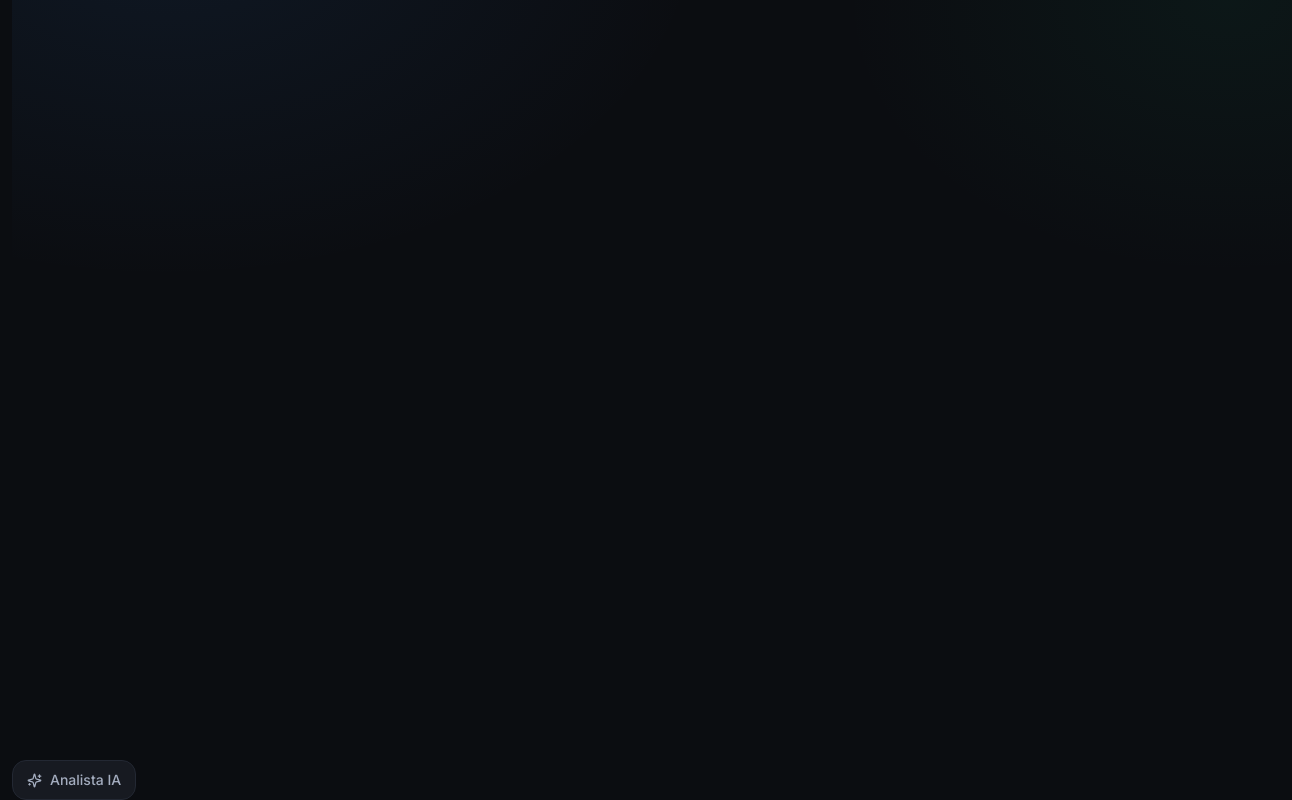
Test: AssetChat scrolling › can stop an answer mid-stream and keeps what arrived
(page scrolled)
Click the button "Analista IA": coordinates (74, 780) 12,760 -> 136,799
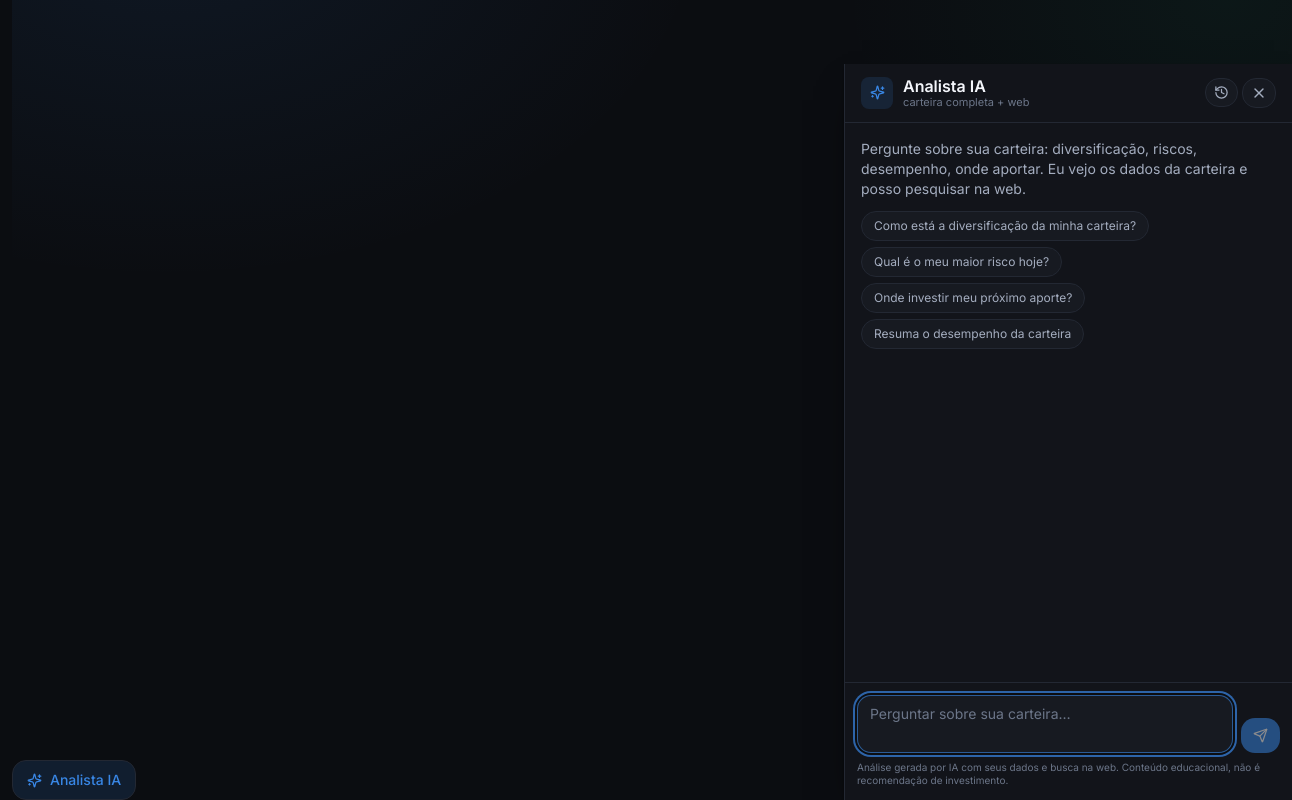
In the text box with placeholder "Perguntar sobre sua carteira…": coordinates (1045, 724) 857,694 -> 1233,752, type "Pergunta"
Then press Enter
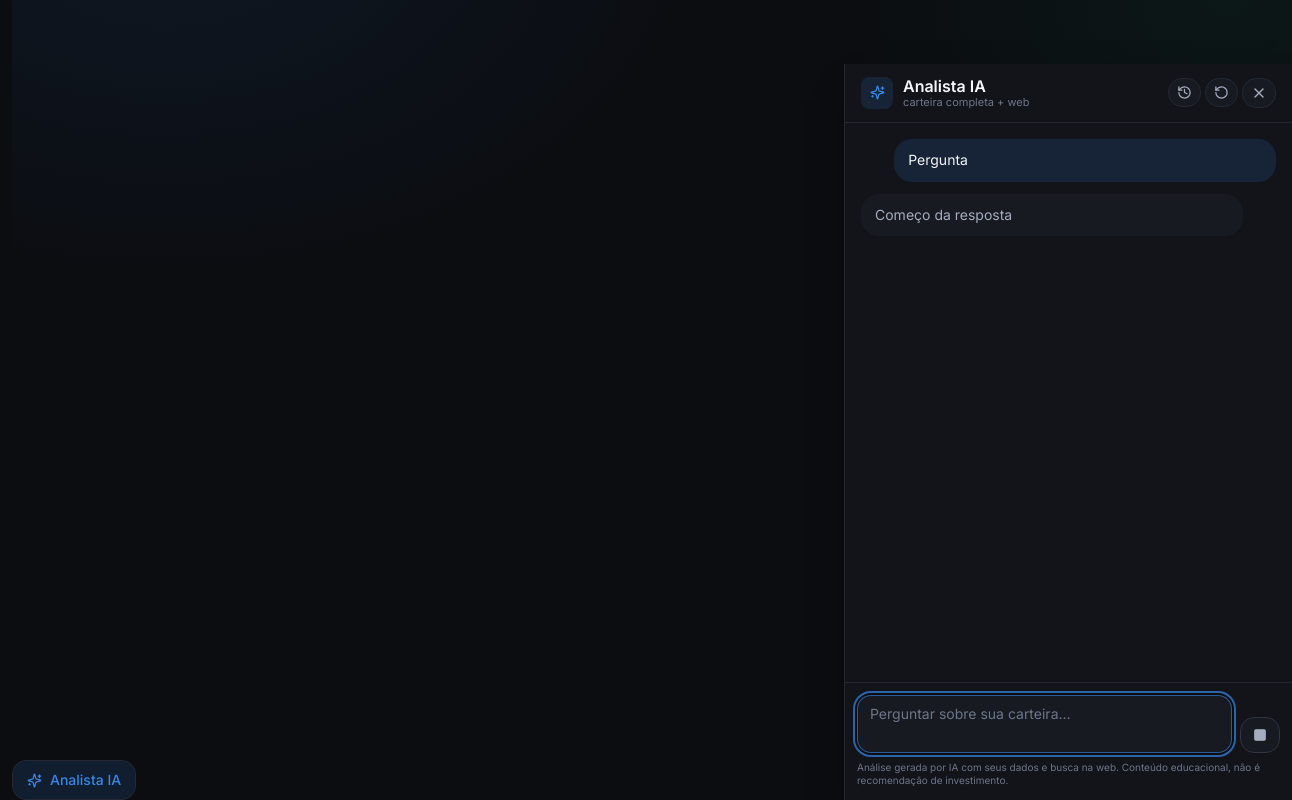
Click the button named "Parar resposta": coordinates (1260, 734) 1240,716 -> 1280,752
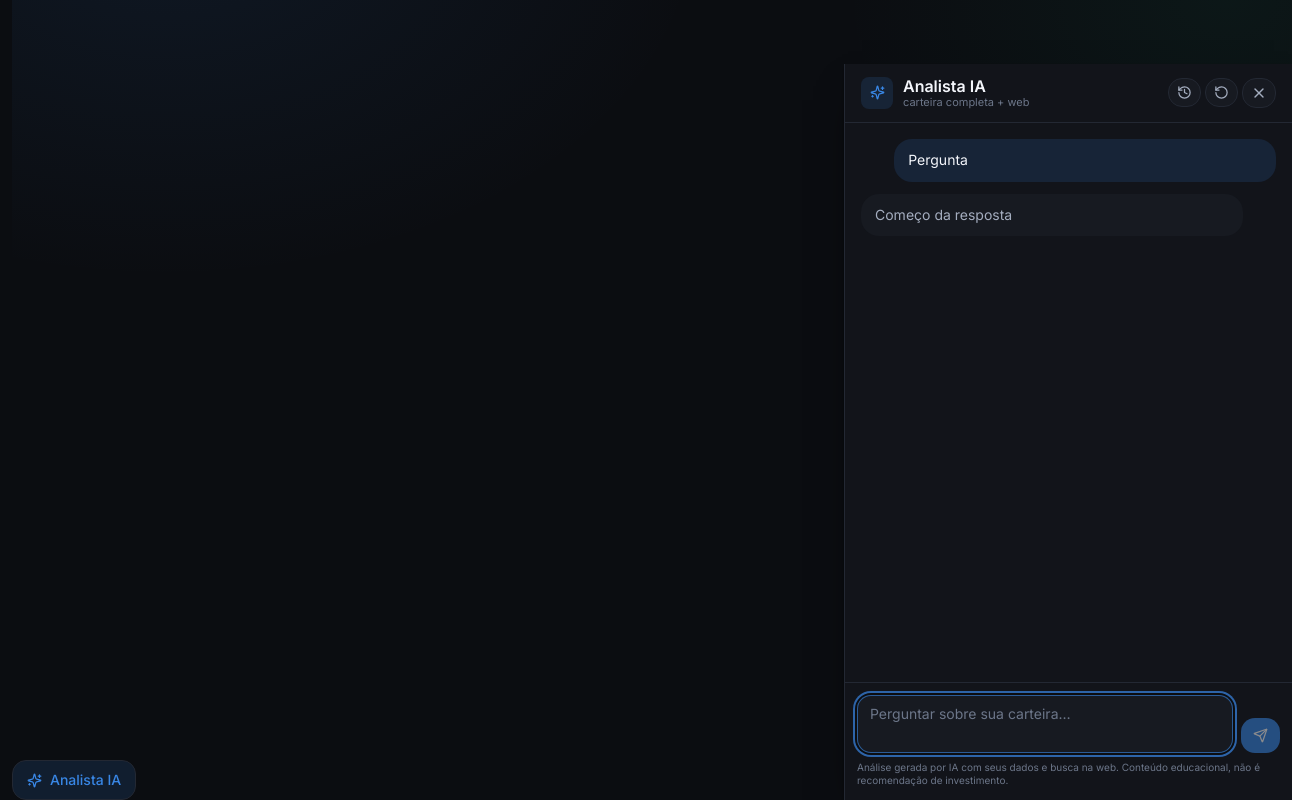
Expected: the text "Começo da resposta" is shown, 875,206 -> 1012,222
Expected: the button named "Enviar" is shown, 1241,718 -> 1280,752
